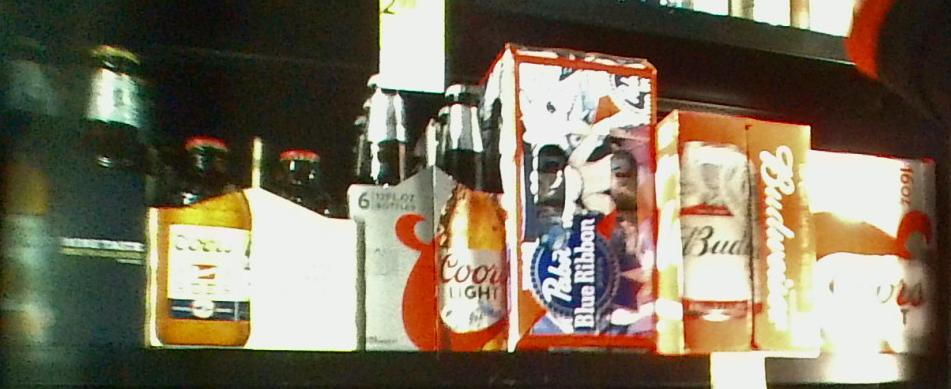bottle: (148, 118, 362, 351), (504, 40, 660, 355), (3, 23, 146, 347), (358, 74, 512, 351), (662, 107, 815, 359), (814, 145, 937, 356)
